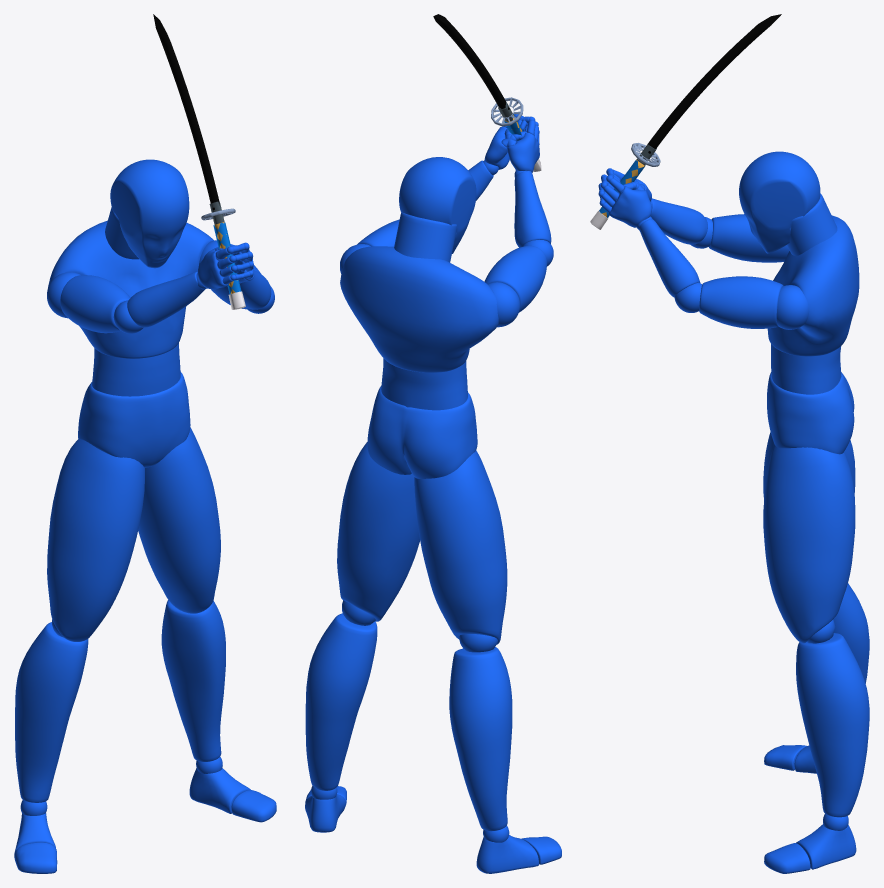
The model's file is Soldado_Estatua.fbx.
3 views of the same model, side by side, from view 1: azimuth 30°, elevation 25°; view 2: azimuth 150°, elevation 25°; view 3: azimuth 270°, elevation 25° (orthographic). The views are drawn at different scales.
Parts seen in each view (by area): view 1: Adjustable Mannequin Mesh.001, Katana; view 2: Adjustable Mannequin Mesh.001, Katana; view 3: Adjustable Mannequin Mesh.001, Katana.
Boxes of the visible parts, <box> form: Adjustable Mannequin Mesh.001: <box>14,159,276,873</box>; Katana: <box>153,14,245,309</box>; Adjustable Mannequin Mesh.001: <box>305,114,561,873</box>; Katana: <box>433,14,541,171</box>; Adjustable Mannequin Mesh.001: <box>598,151,869,873</box>; Katana: <box>590,14,781,229</box>.
Bounding box in the file's own units: 68.7 × 212 × 66.81.
